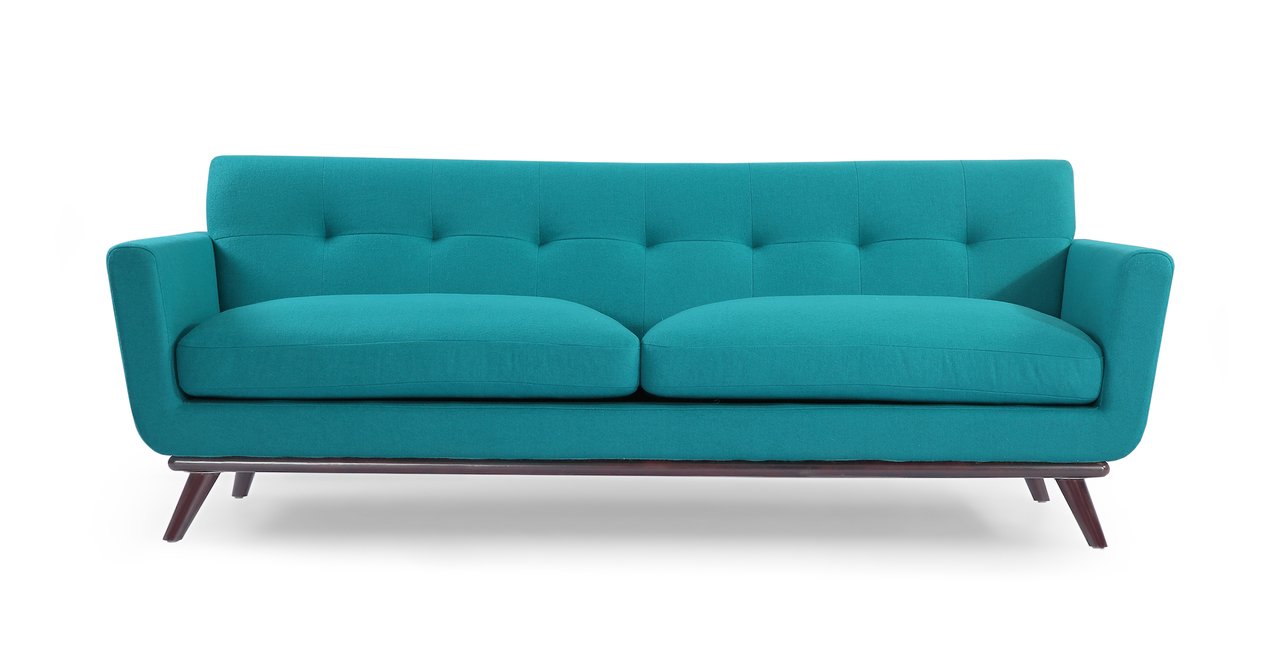chairs: (106, 154, 1175, 549)
